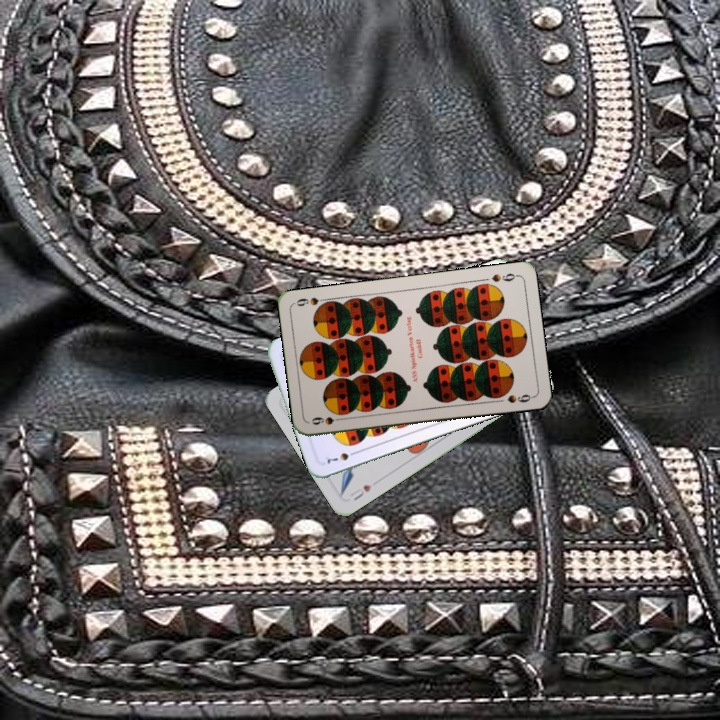HU: (346, 481, 374, 503)
S7: (321, 447, 360, 466)
S9: (307, 413, 348, 428), (487, 269, 520, 285)
